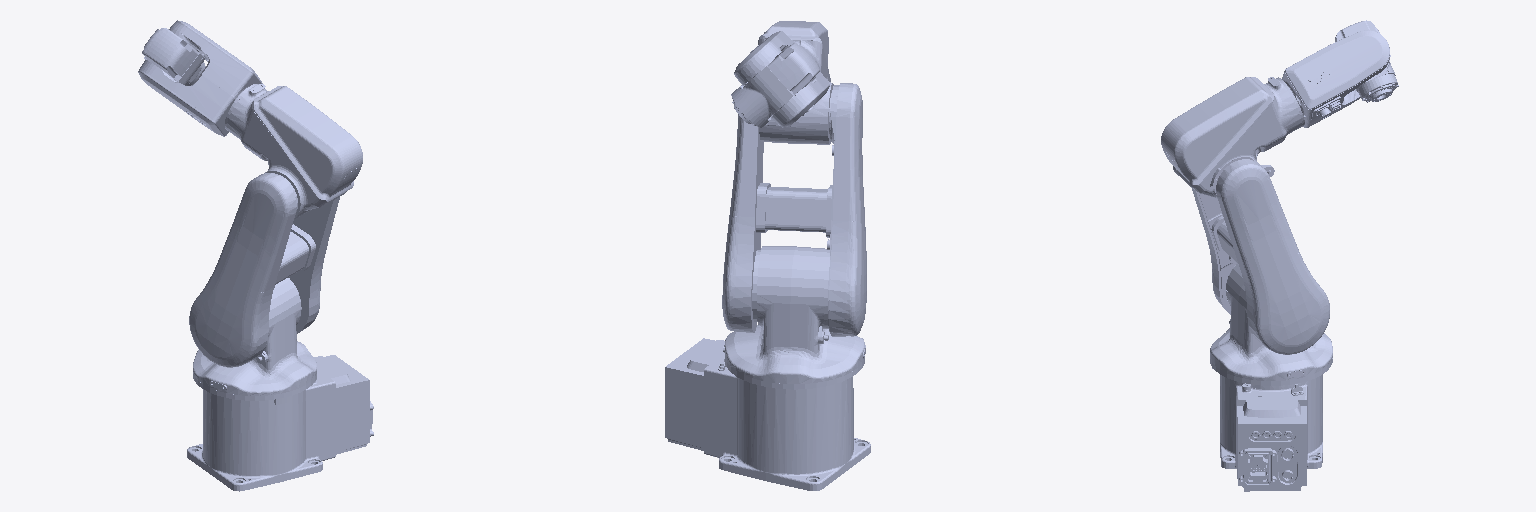
URDF robot description (irb_120_4):
<robot
  name="irb_120_4">
  <link
    name="base_link">
    <inertial>
      <origin
        xyz="-0.4923322455318 0.0796375189545766 -0.343997864956298"
        rpy="0 0 0" />
      <mass
        value="6.21502197464169" />
      <inertia
        ixx="0.000106659277015685"
        ixy="0.00107728920718066"
        ixz="0.000133972749796028"
        iyy="0.0220390646381512"
        iyz="-6.86369407120737E-06"
        izz="0.0220937293703177" />
    </inertial>
    <visual>
      <origin
        xyz="0 0 0"
        rpy="0 0 0" />
      <geometry>
        <mesh
          filename="package://irb_120_4/meshes/base_link.STL" />
      </geometry>
      <material
        name="">
        <color
          rgba="0.792156862745098 0.819607843137255 0.933333333333333 1" />
      </material>
    </visual>
    <collision>
      <origin
        xyz="0 0 0"
        rpy="0 0 0" />
      <geometry>
        <mesh
          filename="package://irb_120_4/meshes/base_link.STL" />
      </geometry>
    </collision>
  </link>
  <link
    name="link_1">
    <inertial>
      <origin
        xyz="9.7679650438387E-05 0.0834117685238348 0.000119310046004517"
        rpy="0 0 0" />
      <mass
        value="3.06699165266568" />
      <inertia
        ixx="0.00194834115145574"
        ixy="2.30759529996511E-05"
        ixz="-1.29233488911122E-05"
        iyy="3.28359222249628E-05"
        iyz="9.10760064701159E-06"
        izz="0.00196858703330084" />
    </inertial>
    <visual>
      <origin
        xyz="0 0 0"
        rpy="0 0 0" />
      <geometry>
        <mesh
          filename="package://irb_120_4/meshes/link_1.STL" />
      </geometry>
      <material
        name="">
        <color
          rgba="0.792156862745098 0.819607843137255 0.933333333333333 1" />
      </material>
    </visual>
    <collision>
      <origin
        xyz="0 0 0"
        rpy="0 0 0" />
      <geometry>
        <mesh
          filename="package://irb_120_4/meshes/link_1.STL" />
      </geometry>
    </collision>
  </link>
  <joint
    name="joint_1"
    type="revolute">
    <origin
      xyz="-0.534370694005313 0.343716674198356 0.155"
      rpy="1.5707963267949 -5.59146130026568E-17 -1.15103218176053" />
    <parent
      link="base_link" />
    <child
      link="link_1" />
    <axis
      xyz="0 1 0" />
    <safety_controller k_position="100.0" k_velocity="40.0" soft_lower_limit="-2.8973" soft_upper_limit="2.8973"/>
    <limit effort="87" lower="-2.9671" upper="2.9671" velocity="2.1750"/>
  </joint>
  <link
    name="link_2">
    <inertial>
      <origin
        xyz="0.000778384486191608 0.101242304152669 0.00211707933402555"
        rpy="0 0 0" />
      <mass
        value="3.90866666481631" />
      <inertia
        ixx="0.0221861442026891"
        ixy="-5.70017279151193E-05"
        ixz="1.04656812585721E-05"
        iyy="0.0212284852209128"
        iyz="-0.000529462496419489"
        izz="0.000992589168939513" />
    </inertial>
    <visual>
      <origin
        xyz="0 0 0"
        rpy="0 0 0" />
      <geometry>
        <mesh
          filename="package://irb_120_4/meshes/link_2.STL" />
      </geometry>
      <material
        name="">
        <color
          rgba="0.792156862745098 0.819607843137255 0.933333333333333 1" />
      </material>
    </visual>
    <collision>
      <origin
        xyz="0 0 0"
        rpy="0 0 0" />
      <geometry>
        <mesh
          filename="package://irb_120_4/meshes/link_2.STL" />
      </geometry>
    </collision>
  </link>
  <joint
    name="joint_2"
    type="revolute">
    <origin
      xyz="0 0.135 0"
      rpy="4.24660306919122E-15 1.88737914186277E-15 -0.316866104687512" />
    <parent
      link="link_1" />
    <child
      link="link_2" />
    <axis
      xyz="0 0 -1" />
    <safety_controller k_position="100.0" k_velocity="40.0" soft_lower_limit="-2.8973" soft_upper_limit="2.8973"/>
    <limit effort="87" lower="-2.9671" upper="2.9671" velocity="2.1750"/>
  </joint>
  <link
    name="link_3">
    <inertial>
      <origin
        xyz="0.0228086440251873 0.0579097826798891 0.00843562952865995"
        rpy="0 0 0" />
      <mass
        value="2.94369292099031" />
      <inertia
        ixx="0.00271629194806446"
        ixy="0.00177015651381557"
        ixz="4.1213704329031E-05"
        iyy="0.00179789354088154"
        iyz="-6.92755198878032E-05"
        izz="0.00451033210864948" />
    </inertial>
    <visual>
      <origin
        xyz="0 0 0"
        rpy="0 0 0" />
      <geometry>
        <mesh
          filename="package://irb_120_4/meshes/link_3.STL" />
      </geometry>
      <material
        name="">
        <color
          rgba="0.792156862745098 0.819607843137255 0.933333333333333 1" />
      </material>
    </visual>
    <collision>
      <origin
        xyz="0 0 0"
        rpy="0 0 0" />
      <geometry>
        <mesh
          filename="package://irb_120_4/meshes/link_3.STL" />
      </geometry>
    </collision>
  </link>
  <joint
    name="joint_3"
    type="revolute">
    <origin
      xyz="0 0.270000000000002 0"
      rpy="-3.14159265358979 2.94209101525666E-15 3.11383255623925" />
    <parent
      link="link_2" />
    <child
      link="link_3" />
    <axis
      xyz="0 0 1" />
    <safety_controller k_position="100.0" k_velocity="40.0" soft_lower_limit="-2.8973" soft_upper_limit="2.8973"/>
    <limit effort="87" lower="-2.9671" upper="2.9671" velocity="2.1750"/>
  </joint>
  <link
    name="link_4">
    <inertial>
      <origin
        xyz="0.0852134247224394 0.000371992343638827 0.00456836445251832"
        rpy="0 0 0" />
      <mass
        value="1.44757237948674" />
      <inertia
        ixx="0.00215886182006217"
        ixy="1.1534331353241E-05"
        ixz="-0.00018129598989066"
        iyy="0.00229321140052892"
        iyz="1.65138641596783E-05"
        izz="0.000167963958440988" />
    </inertial>
    <visual>
      <origin
        xyz="0 0 0"
        rpy="0 0 0" />
      <geometry>
        <mesh
          filename="package://irb_120_4/meshes/link_4.STL" />
      </geometry>
      <material
        name="">
        <color
          rgba="0.792156862745098 0.819607843137255 0.933333333333333 1" />
      </material>
    </visual>
    <collision>
      <origin
        xyz="0 0 0"
        rpy="0 0 0" />
      <geometry>
        <mesh
          filename="package://irb_120_4/meshes/link_4.STL" />
      </geometry>
    </collision>
  </link>
  <joint
    name="joint_4"
    type="revolute">
    <origin
      xyz="0.140962120203622 0.0699999999999998 0.00950000000006057"
      rpy="2.34111169526475 -9.99200722162641E-16 7.71605002114484E-15" />
    <parent
      link="link_3" />
    <child
      link="link_4" />
    <axis
      xyz="-1 0 0" />
    <safety_controller k_position="100.0" k_velocity="40.0" soft_lower_limit="-2.8973" soft_upper_limit="2.8973"/>
    <limit effort="87" lower="-2.9671" upper="2.9671" velocity="2.1750"/>
  </joint>
  <link
    name="link_5">
    <inertial>
      <origin
        xyz="-0.00109481156430224 6.21898905339702E-05 -3.68578109799789E-05"
        rpy="0 0 0" />
      <mass
        value="0.54662720693154" />
      <inertia
        ixx="3.11473892422271E-07"
        ixy="-4.21003605964803E-07"
        ixz="-2.25130112411844E-07"
        iyy="0.000525459075075541"
        iyz="-6.59507388041651E-09"
        izz="0.000525346622684233" />
    </inertial>
    <visual>
      <origin
        xyz="0 0 0"
        rpy="0 0 0" />
      <geometry>
        <mesh
          filename="package://irb_120_4/meshes/link_5.STL" />
      </geometry>
      <material
        name="">
        <color
          rgba="0.792156862745098 0.819607843137255 0.933333333333333 1" />
      </material>
    </visual>
    <collision>
      <origin
        xyz="0 0 0"
        rpy="0 0 0" />
      <geometry>
        <mesh
          filename="package://irb_120_4/meshes/link_5.STL" />
      </geometry>
    </collision>
  </link>
  <joint
    name="joint_5"
    type="revolute">
    <origin
      xyz="0.161037879796381 0 0"
      rpy="-5.38458166943201E-15 8.95117313604032E-16 1.69412794738486" />
    <parent
      link="link_4" />
    <child
      link="link_5" />
    <axis
      xyz="0 0 -1" />
    <safety_controller k_position="100.0" k_velocity="40.0" soft_lower_limit="-2.8973" soft_upper_limit="2.8973"/>
    <limit effort="87" lower="-2.9671" upper="2.9671" velocity="2.1750"/>
  </joint>
  <link
    name="link_6">
    <inertial>
      <origin
        xyz="-1.32366921745675E-06 0.000169581014407449 0.0143991093016617"
        rpy="0 0 0" />
      <mass
        value="0.0136784203906059" />
      <inertia
        ixx="0"
        ixy="0"
        ixz="0"
        iyy="0"
        iyz="0"
        izz="0" />
    </inertial>
    <visual>
      <origin
        xyz="0 0 0"
        rpy="0 0 0" />
      <geometry>
        <mesh
          filename="package://irb_120_4/meshes/link_6.STL" />
      </geometry>
      <material
        name="">
        <color
          rgba="0.792156862745098 0.819607843137255 0.933333333333333 1" />
      </material>
    </visual>
    <collision>
      <origin
        xyz="0 0 0"
        rpy="0 0 0" />
      <geometry>
        <mesh
          filename="package://irb_120_4/meshes/link_6.STL" />
      </geometry>
    </collision>
  </link>
  <joint
    name="joint_6"
    type="revolute">
    <origin
      xyz="0.0505388034411625 0 0"
      rpy="-1.57079632679491 -1.05837500938705 -1.57079632679488" />
    <parent
      link="link_5" />
    <child
      link="link_6" />
    <axis
      xyz="0 0 -1" />
    <safety_controller k_position="100.0" k_velocity="40.0" soft_lower_limit="-2.8973" soft_upper_limit="2.8973"/>
    <limit effort="87" lower="-2.9671" upper="2.9671" velocity="2.1750"/>
  </joint>
</robot>

--- Facts derived from the render (not from the file) ---
Views: 3 orthographic renders of the robot side by side, from view 1: azimuth 30°, elevation 25°; view 2: azimuth 150°, elevation 25°; view 3: azimuth 270°, elevation 25°.
Robot: irb_120_4 — 7 links, 6 joints (6 revolute); root link base_link; default pose: every joint at zero.
Links seen in each view (by area): view 1: link_2, base_link, link_3, link_1, link_4, link_5; view 2: base_link, link_2, link_1, link_3, link_5, link_4; view 3: link_2, base_link, link_3, link_4, link_1, link_5.
Link boxes in pixels (x1,y1,x2,y2): link_2: [189, 173, 339, 367]; base_link: [187, 355, 373, 491]; link_3: [225, 84, 362, 218]; link_1: [193, 278, 316, 404]; link_4: [138, 20, 262, 136]; link_5: [142, 28, 205, 85]; base_link: [665, 338, 870, 490]; link_2: [722, 83, 866, 336]; link_1: [723, 246, 865, 389]; link_3: [758, 21, 833, 144]; link_5: [731, 43, 819, 127]; link_4: [734, 31, 829, 127]; link_2: [1192, 159, 1329, 354]; base_link: [1220, 374, 1322, 491]; link_3: [1161, 77, 1305, 199]; link_4: [1282, 30, 1389, 127]; link_1: [1210, 264, 1332, 385]; link_5: [1335, 20, 1398, 102].
Size in the robot's own frame: 0.3414 by 0.4151 by 0.7805 metres.
7 mesh visuals loaded from 7 distinct referenced files (7 binary STL).